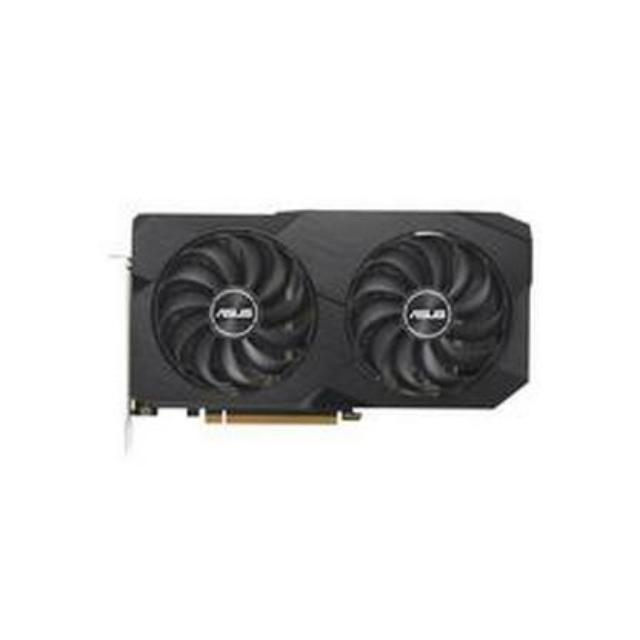GPU: (119, 188, 538, 430)
